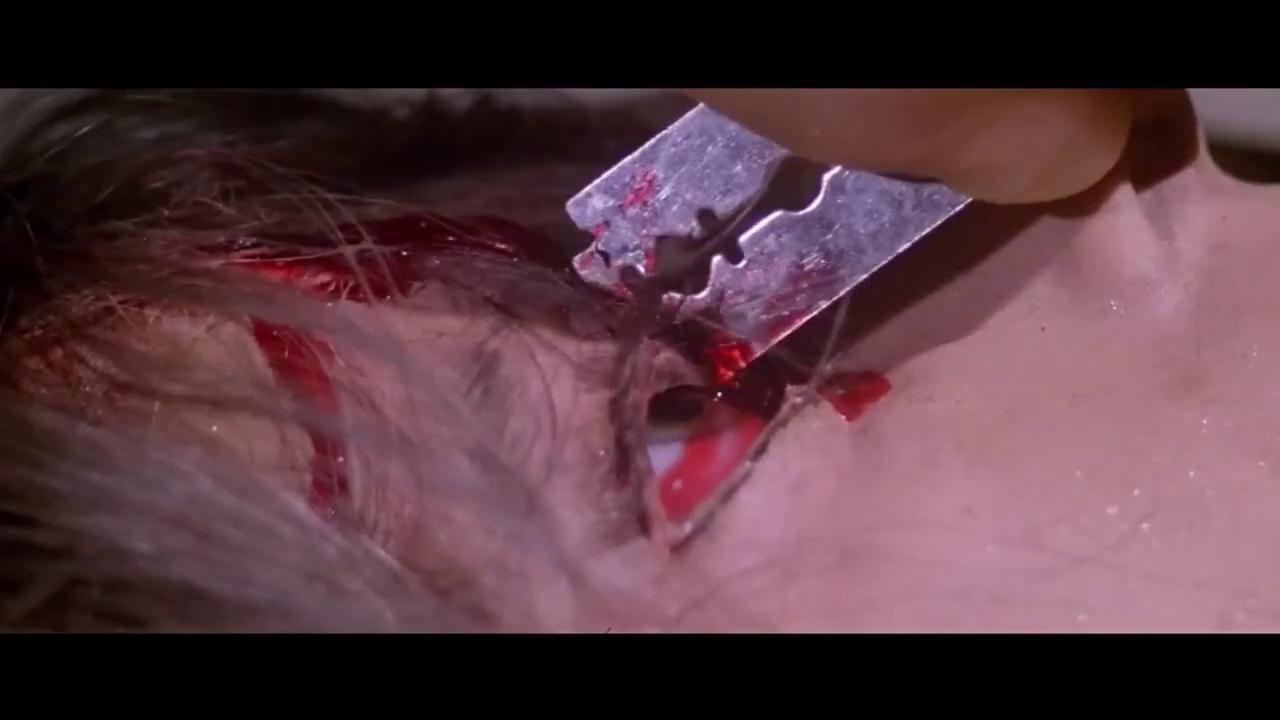Fire: (646, 238, 893, 542), (241, 214, 518, 302), (250, 318, 351, 520)
